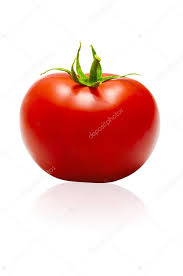tomato: (19, 73, 160, 182)
